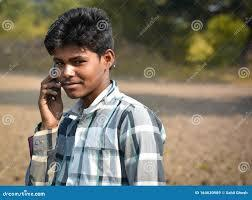Human: (24, 10, 168, 187)
